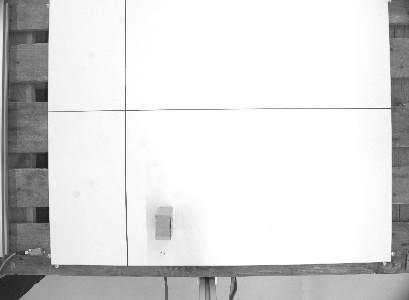b1: (153, 204, 175, 242)
